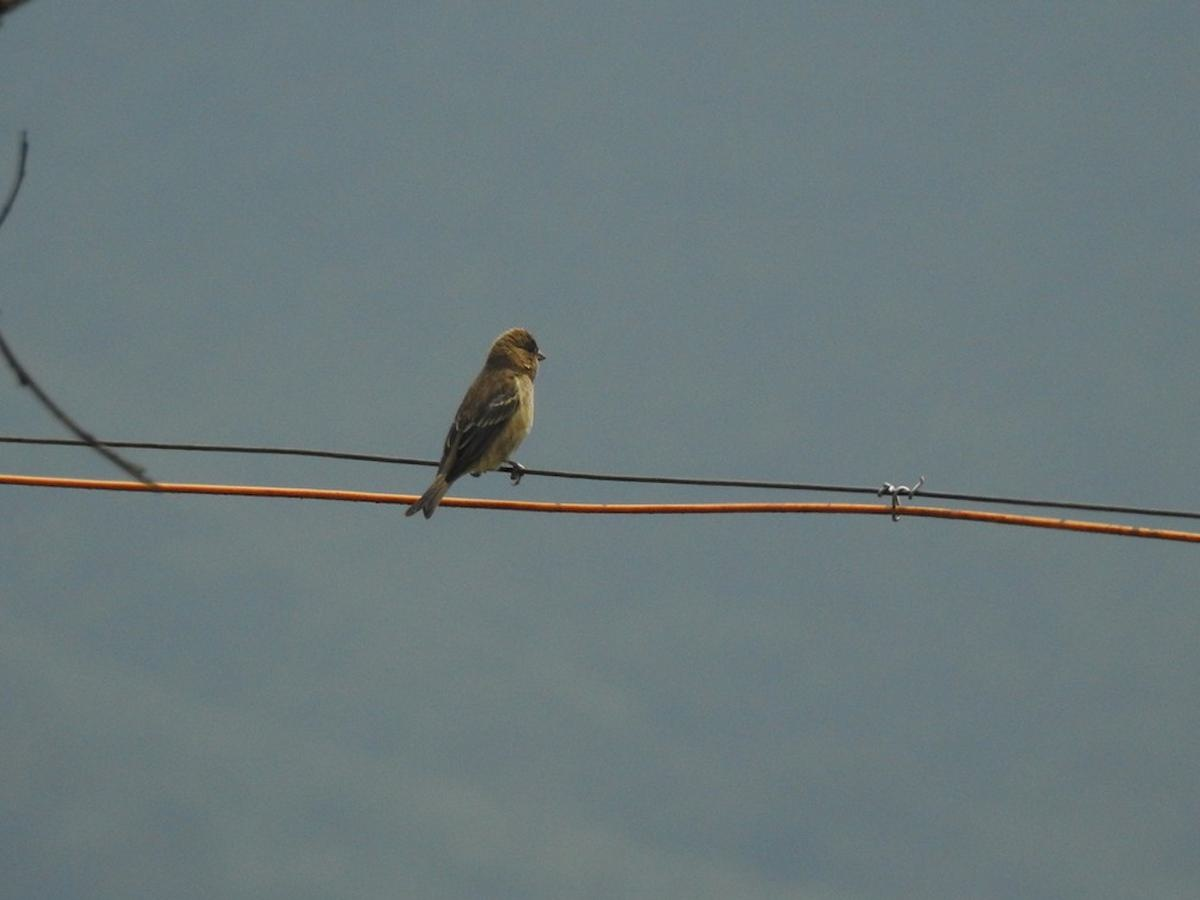rosefinch: (400, 312, 553, 542)
